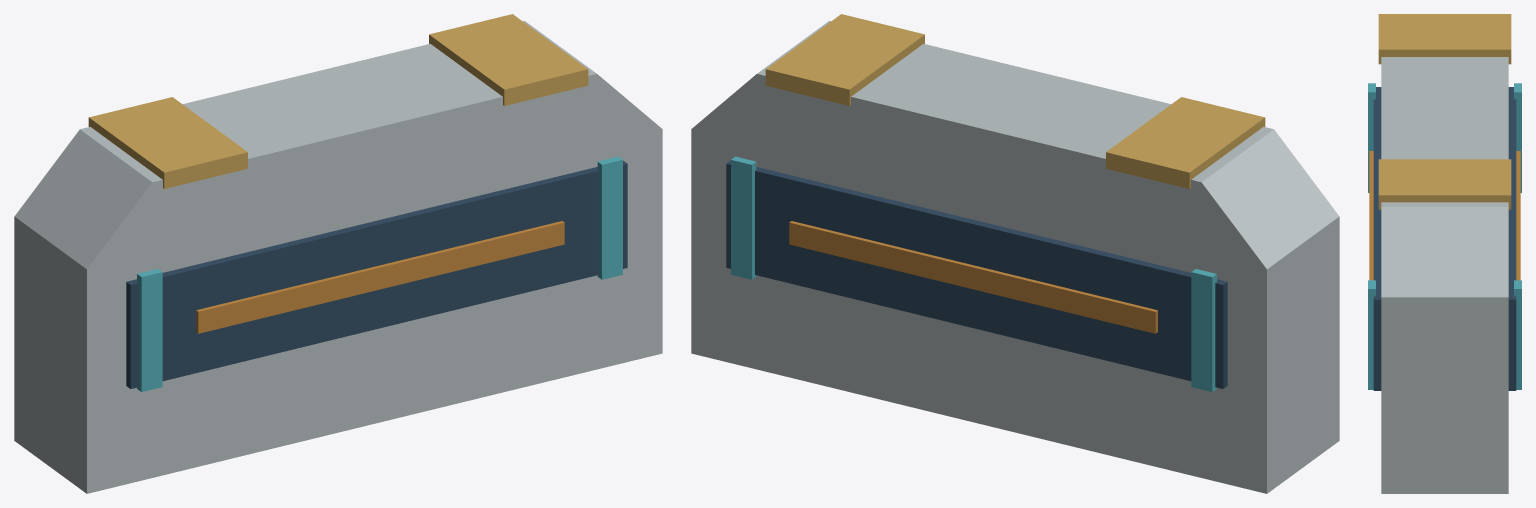
The model's file is SpaceStation_BulkheadBaffle_Showcase.glb.
3 renders of one model, left to right at view 1: azimuth 30°, elevation 25°; view 2: azimuth 150°, elevation 25°; view 3: azimuth 270°, elevation 25°, orthographic. The views are drawn at different scales.
Visible parts, largest first — view 1: SpaceStation_BulkheadBaffle_Showcase; view 2: SpaceStation_BulkheadBaffle_Showcase; view 3: SpaceStation_BulkheadBaffle_Showcase.
Boxes of the visible parts, <box> form: SpaceStation_BulkheadBaffle_Showcase: <box>14,14,662,493</box>; SpaceStation_BulkheadBaffle_Showcase: <box>691,14,1339,493</box>; SpaceStation_BulkheadBaffle_Showcase: <box>1368,14,1521,493</box>.
Bounding box in the file's own units: 2.2 × 1.11 × 0.5808.
